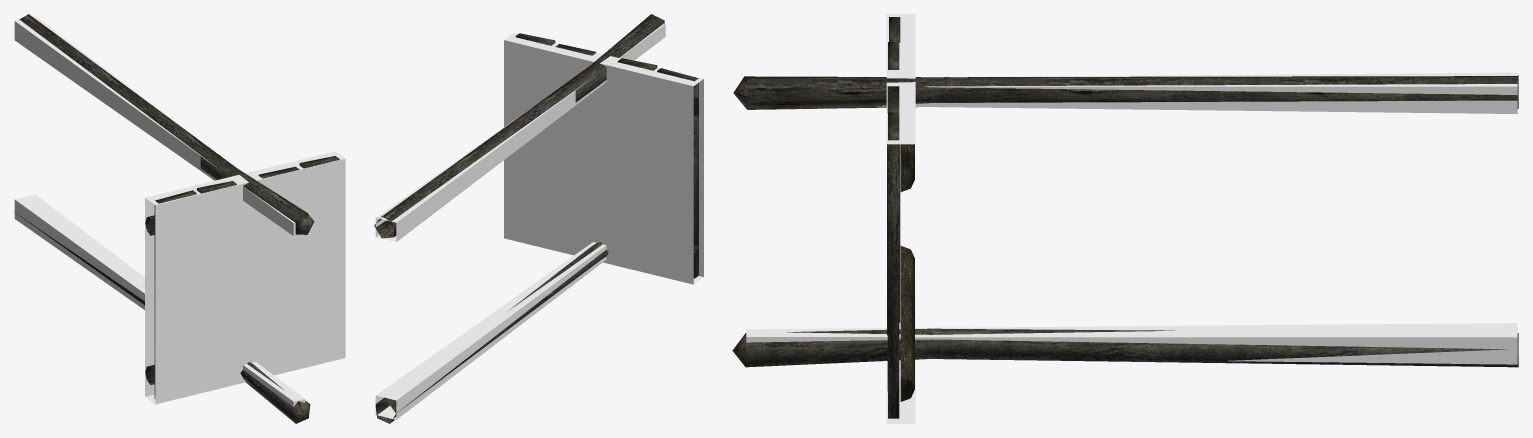
File: ex_common_plat_cent.obj
3 renders of one model, left to right at view 1: azimuth 30°, elevation 25°; view 2: azimuth 150°, elevation 25°; view 3: azimuth 270°, elevation 25°, orthographic. The views are drawn at different scales.
Visible parts, largest first — view 1: object 6, Tri Ex_common_plat_Cent 3, Tri Ex_common_plat_Cent 4, Tri Ex_common_plat_Cent 2; view 2: object 6, Tri Ex_common_plat_Cent 3, Tri Ex_common_plat_Cent 4; view 3: Tri Ex_common_plat_Cent 3, object 6, Tri Ex_common_plat_Cent 1, Tri Ex_common_plat_Cent 4.
Part boxes in pixels (x1,y1,x2,y2): object 6: (14, 16, 345, 407); Tri Ex_common_plat_Cent 3: (15, 14, 339, 423); Tri Ex_common_plat_Cent 4: (155, 156, 339, 203); Tri Ex_common_plat_Cent 2: (289, 213, 314, 423); object 6: (375, 23, 703, 419); Tri Ex_common_plat_Cent 3: (374, 14, 698, 423); Tri Ex_common_plat_Cent 4: (516, 33, 698, 81); Tri Ex_common_plat_Cent 3: (744, 41, 1518, 418); object 6: (746, 14, 1517, 423); Tri Ex_common_plat_Cent 1: (900, 144, 914, 401); Tri Ex_common_plat_Cent 4: (887, 17, 900, 138).
Bounding box in the file's own units: 256 × 267 × 653.
